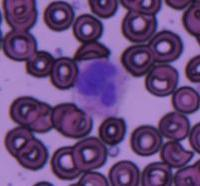N: (76, 58, 128, 118)
